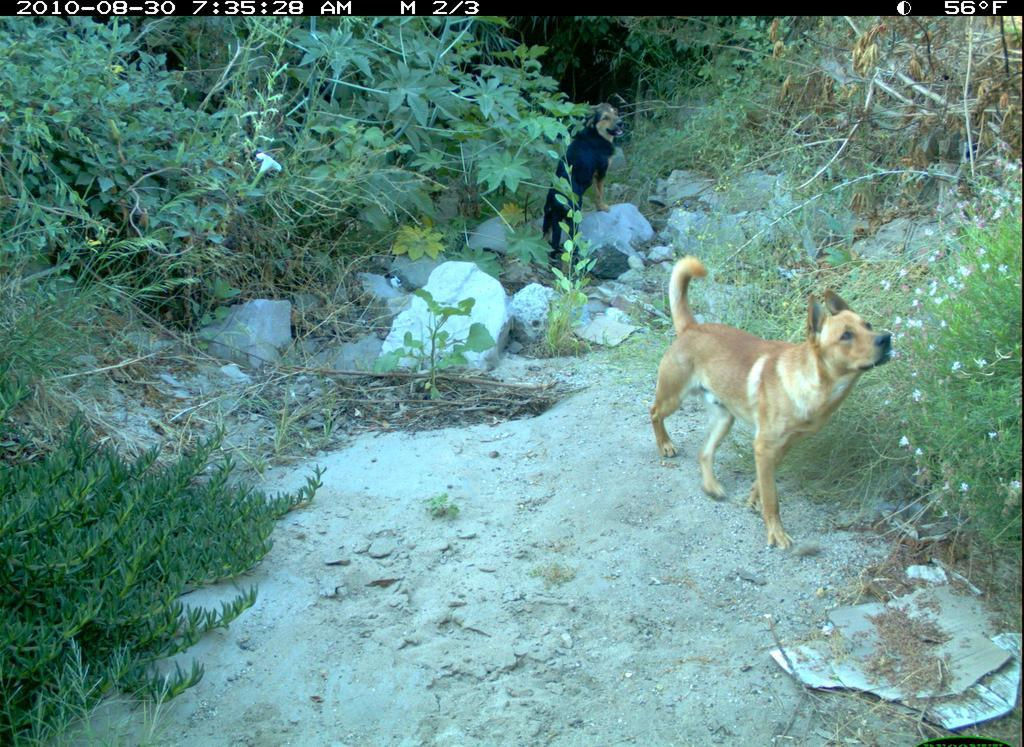dog: (642, 249, 899, 562), (536, 98, 628, 280)
